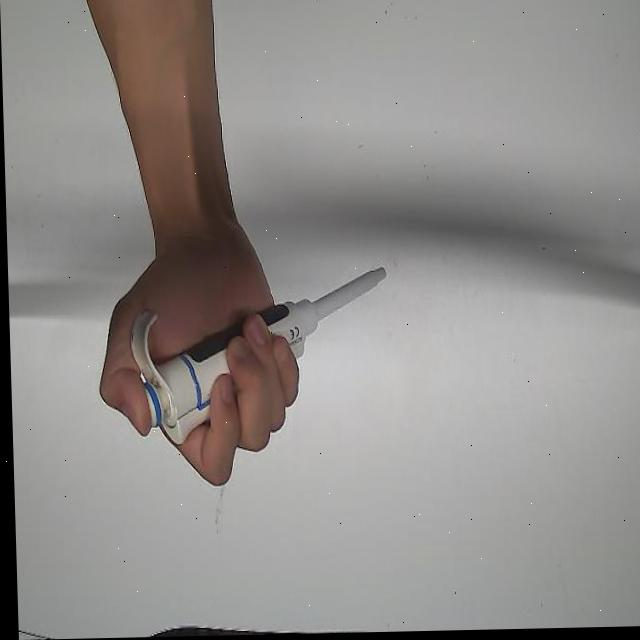Single Channel Pipettor: (124, 270, 394, 448)
